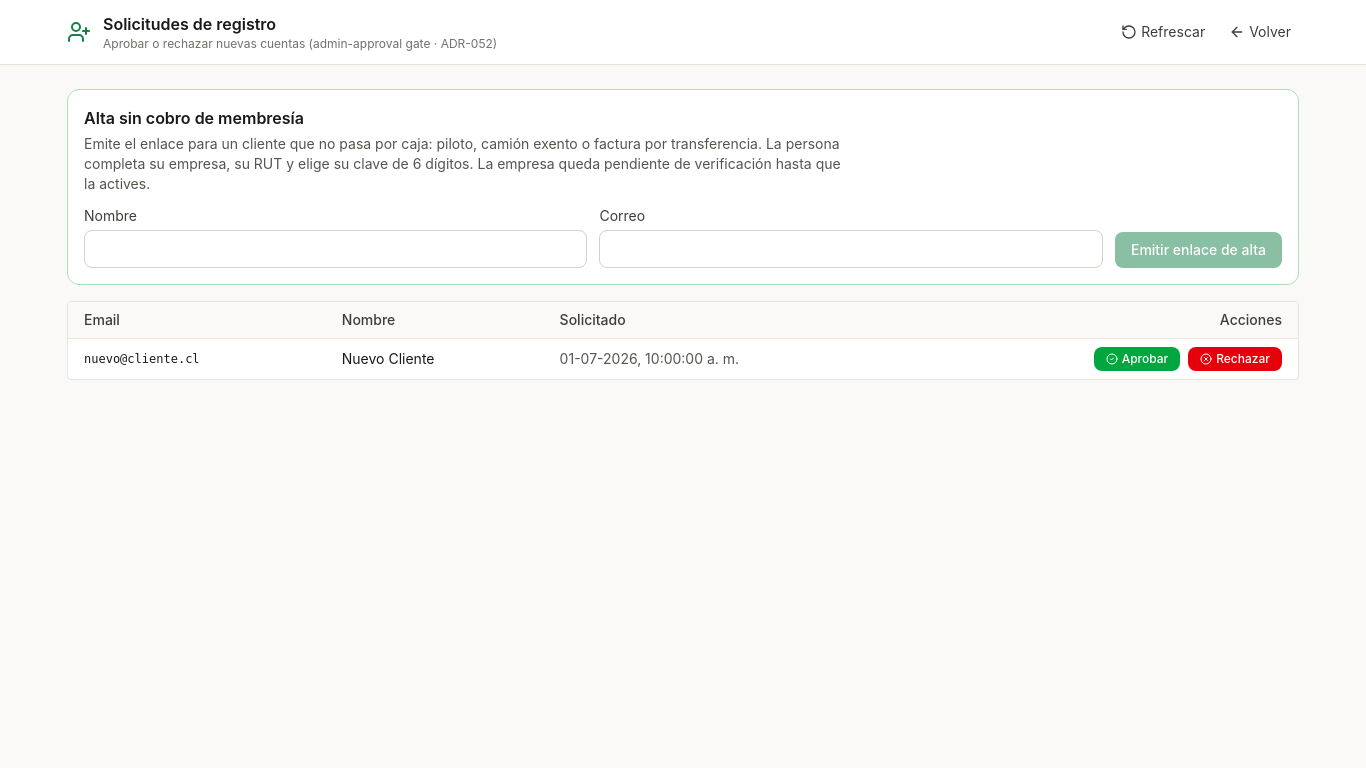
Scenario: PlatformAdminSignupRequestsRoute — W1.4 onboarding_link › T2.0 — muestra también el link de ACCESO cuando el approve lo devuelve
This screenshot has width=1366, height=768.
Expected: the text "nuevo@cliente.cl" is shown, [68, 338, 326, 379]
Click the button "Aprobar".
click(1137, 359)  # box [1094, 347, 1180, 371]
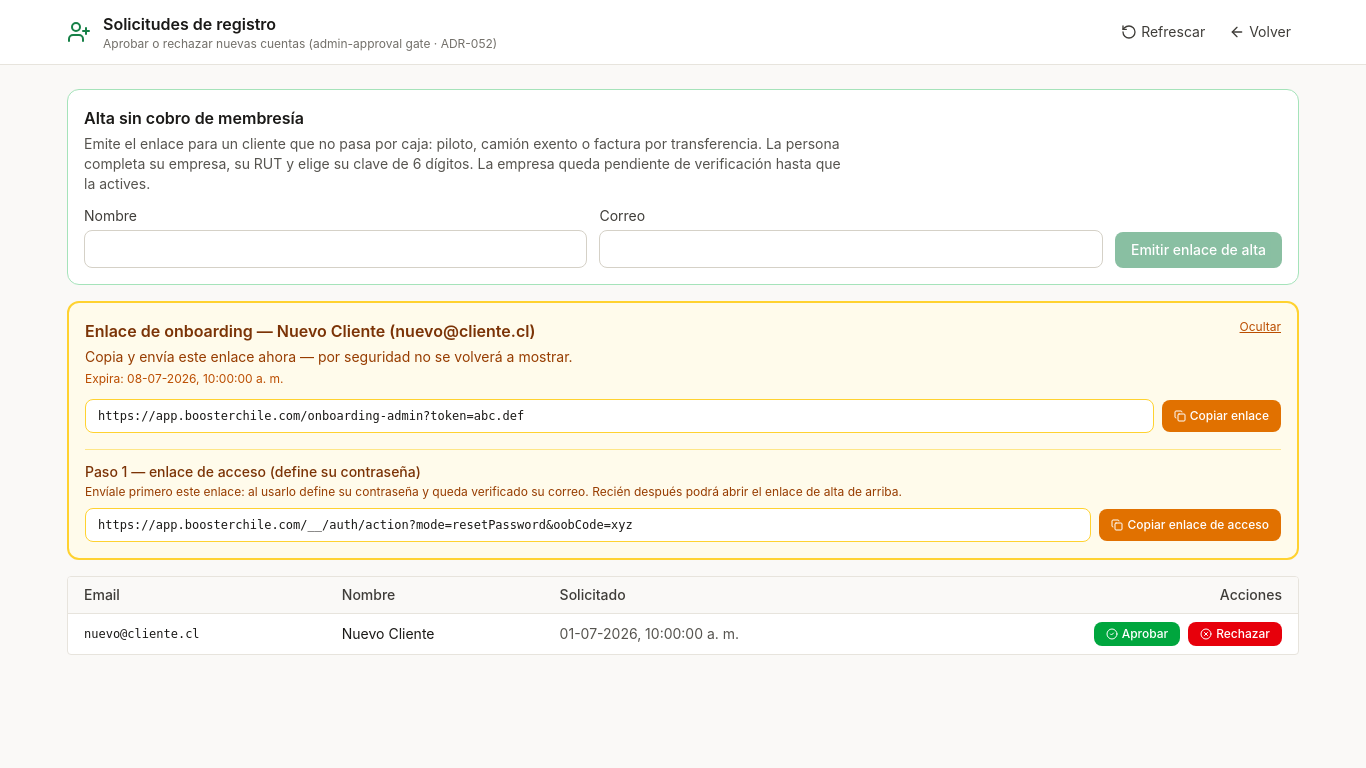
Expected: the text "https://app.boosterchile.com/onboarding-admin?token=abc.def" is shown, [85, 399, 1154, 433]
Expected: the text "https://app.boosterchile.com/__/auth/action?mode=resetPassword&oobCode=xyz" is shown, [85, 508, 1092, 542]
Expected: the button "Copiar enlace de acceso" is shown, [1100, 509, 1281, 541]
